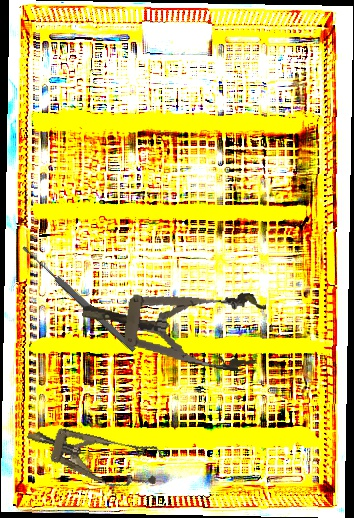Speculum: (77, 270, 268, 375), (20, 409, 166, 499)
Surgical Spoon: (20, 243, 138, 354)
